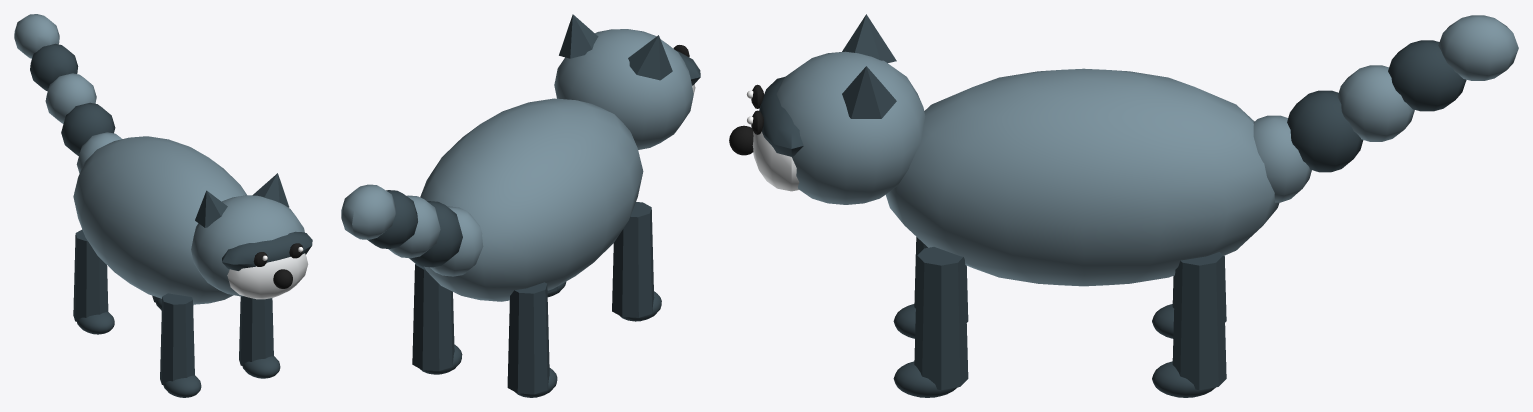
File: roadevents_raccoon.glb
The picture shows the model from 3 angles, left to right: view 1: azimuth 30°, elevation 25°; view 2: azimuth 150°, elevation 25°; view 3: azimuth 270°, elevation 25°; orthographic projection. The views are drawn at different scales.
Visible parts, largest first — view 1: Body.001, Arm_R.002, Leg_R.002, Arm_L.002; view 2: Body.001, Leg_R.002, Arm_R.002, Leg_L.002; view 3: Body.001, Arm_L.002, Leg_L.002, Arm_R.002, Leg_R.002.
Part boxes in pixels (x1,y1,x2,y2): Body.001: (14, 14, 312, 304); Arm_R.002: (160, 293, 201, 397); Leg_R.002: (73, 229, 114, 334); Arm_L.002: (239, 296, 280, 378); Body.001: (341, 14, 700, 301); Leg_R.002: (507, 282, 557, 397); Arm_R.002: (612, 202, 661, 321); Leg_L.002: (412, 263, 462, 374); Body.001: (729, 14, 1518, 286); Arm_L.002: (893, 247, 968, 397); Leg_L.002: (1152, 252, 1226, 397); Arm_R.002: (893, 237, 968, 338); Leg_R.002: (1152, 255, 1226, 338).
Size of the model in its own units: 0.34 by 0.564 by 1.16.
